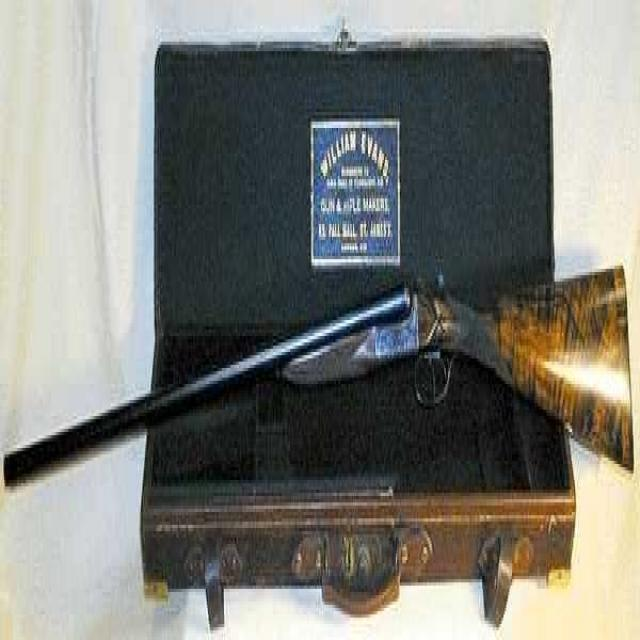Rifle: (2, 150, 635, 550)
